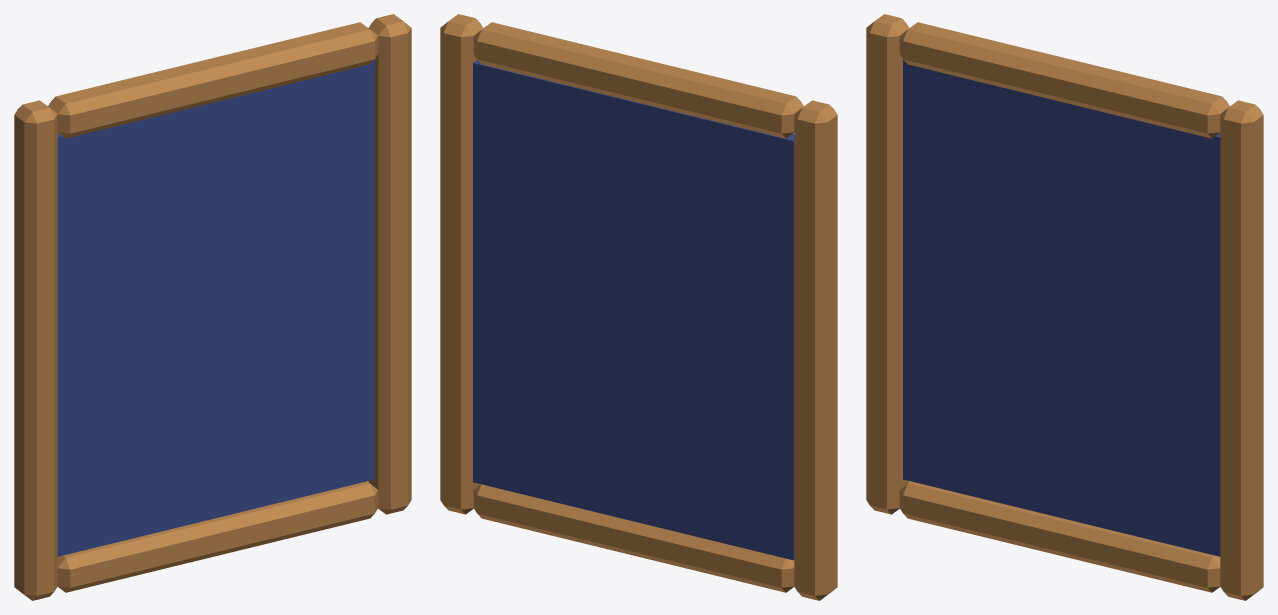
File: poster_frame_thin.glb
The picture shows the model from 3 angles, left to right: view 1: azimuth 30°, elevation 25°; view 2: azimuth 150°, elevation 25°; view 3: azimuth 330°, elevation 25°; orthographic projection.
Visible parts, largest first — view 1: poster_frame_thin; view 2: poster_frame_thin; view 3: poster_frame_thin.
Part boxes in pixels (box(x1,y1,x2,y2)): poster_frame_thin: box(14, 14, 411, 600); poster_frame_thin: box(440, 14, 837, 600); poster_frame_thin: box(866, 14, 1263, 600).
Bounding box in the file's own units: 0.58 × 0.7 × 0.05.
